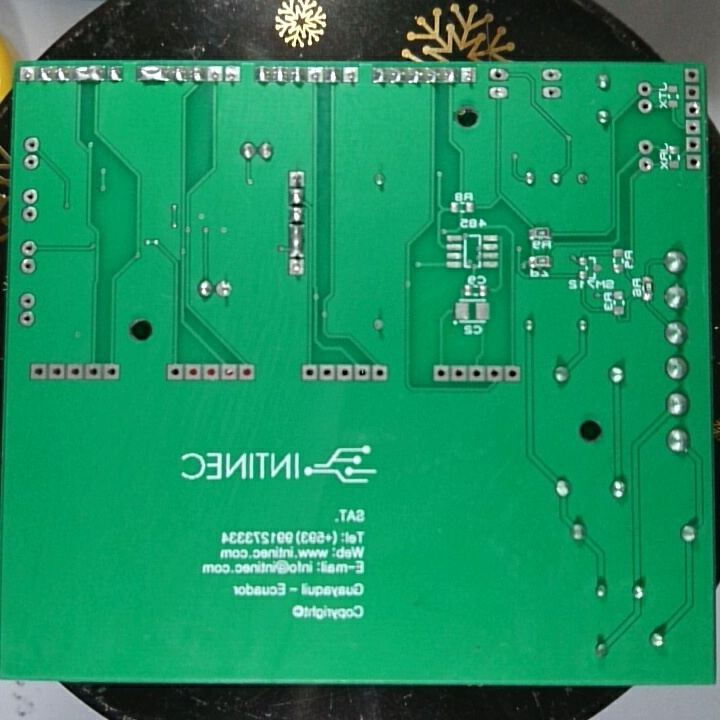F: (215, 278, 236, 303), (164, 360, 185, 385), (19, 202, 40, 224), (19, 255, 39, 278), (502, 364, 520, 389), (221, 360, 238, 386), (47, 360, 67, 382), (83, 360, 102, 383), (370, 363, 389, 385), (460, 64, 478, 87), (16, 308, 39, 326), (301, 360, 319, 383), (541, 66, 565, 83), (67, 360, 84, 384), (103, 360, 120, 384), (336, 362, 353, 386), (287, 257, 307, 277), (486, 362, 502, 387), (202, 360, 221, 381), (28, 362, 50, 380), (685, 116, 704, 136), (430, 364, 450, 383), (489, 83, 510, 101), (184, 361, 201, 383), (238, 361, 255, 383), (318, 361, 335, 383), (469, 363, 485, 386), (683, 66, 701, 86), (637, 80, 657, 98), (18, 291, 38, 309), (355, 361, 370, 384), (490, 65, 508, 84), (287, 169, 305, 188), (573, 170, 591, 189), (343, 65, 359, 86), (22, 185, 40, 203), (638, 137, 655, 156), (450, 365, 467, 384), (20, 63, 36, 83), (687, 151, 702, 172), (307, 65, 322, 86), (207, 63, 221, 85), (22, 153, 40, 170), (686, 99, 702, 118), (687, 134, 702, 154), (640, 97, 655, 117), (686, 84, 702, 102), (24, 134, 39, 153), (224, 65, 237, 86), (20, 238, 36, 255), (639, 155, 653, 174), (372, 315, 384, 334), (543, 82, 556, 96)
P: (138, 65, 169, 86), (75, 64, 105, 84), (289, 221, 301, 258)
